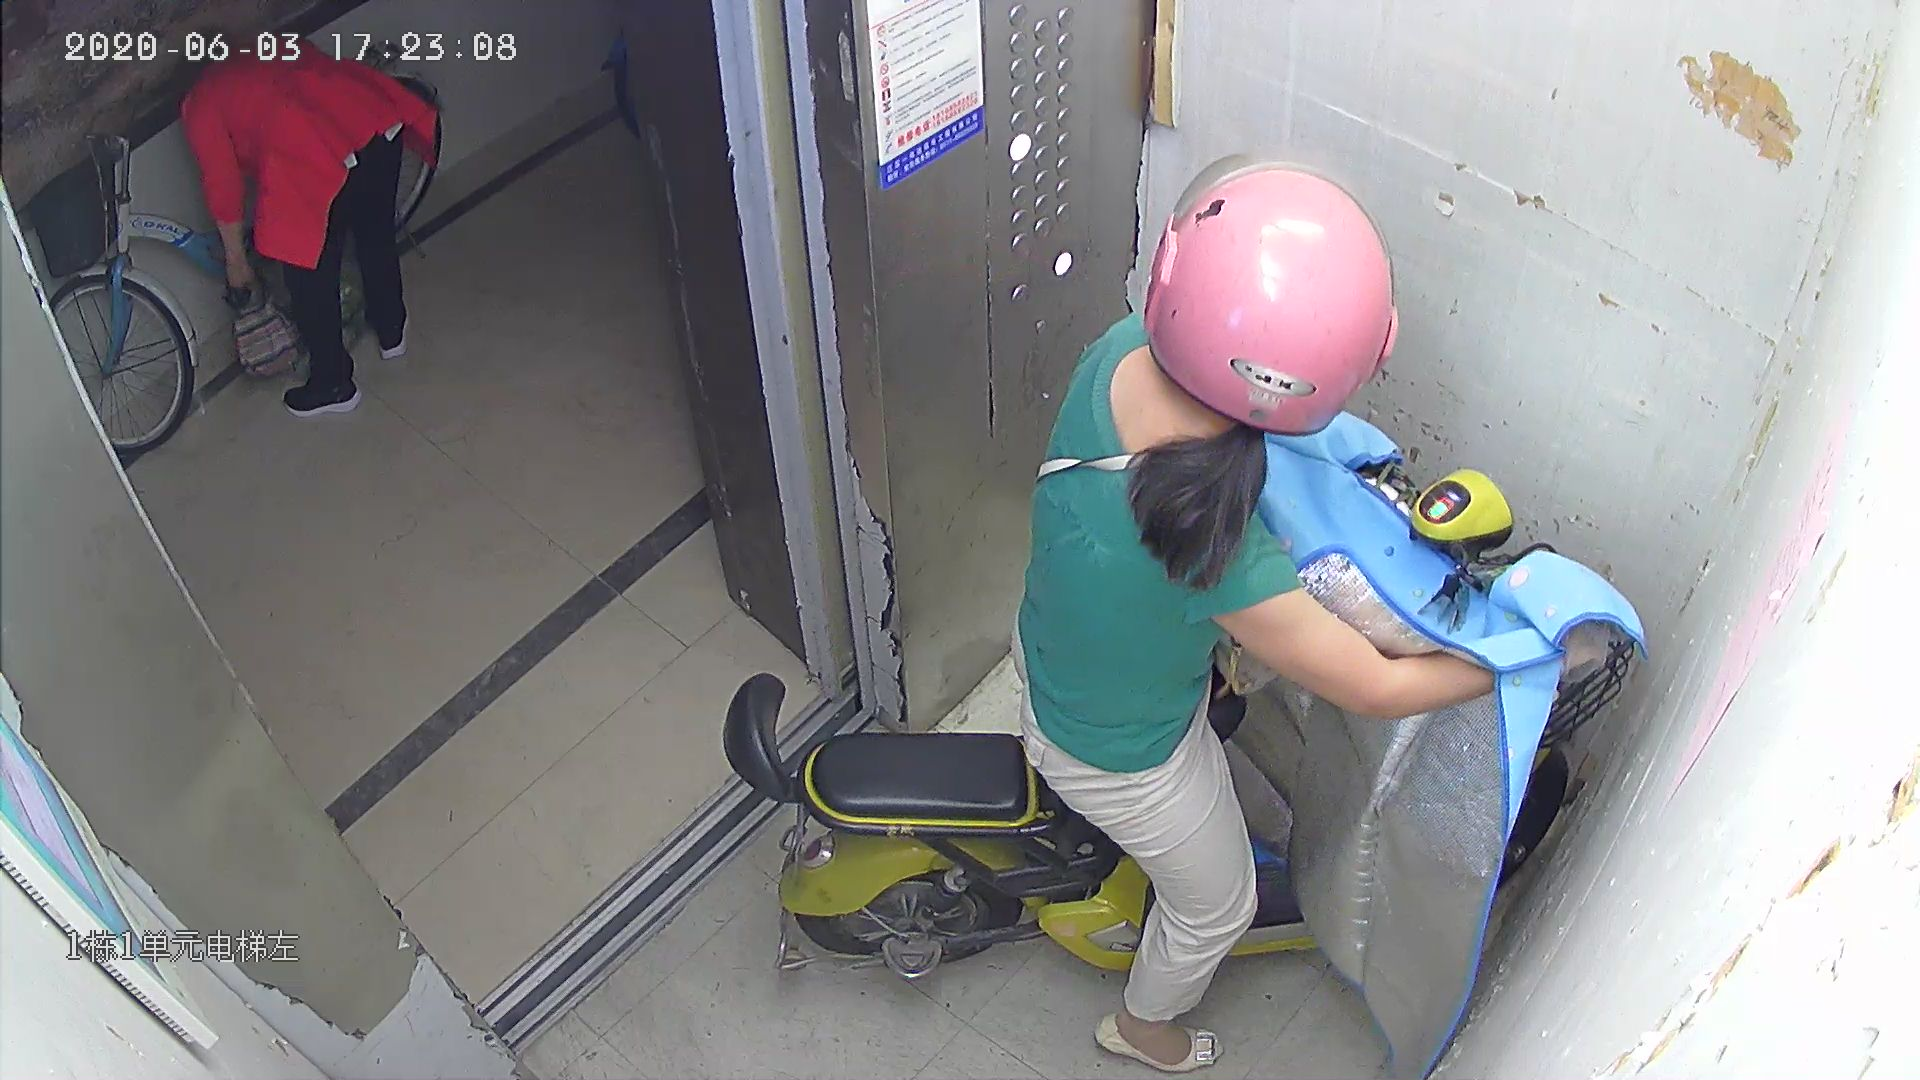Electric-bicycle: (727, 454, 1639, 1029)
